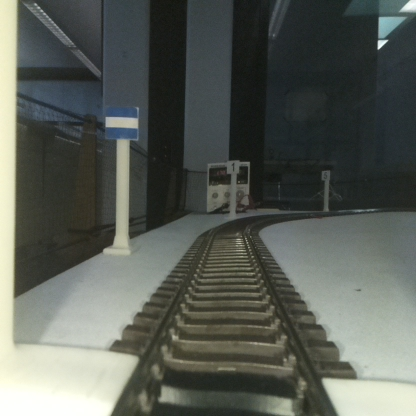start: (105, 107, 138, 254)
white-info-1: (227, 160, 239, 218)
